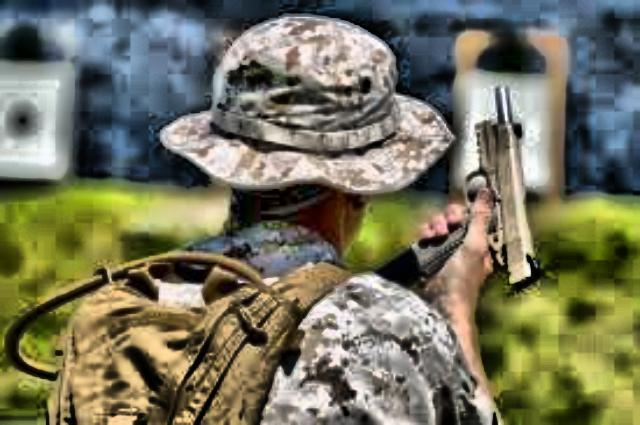pistol: (391, 84, 539, 298)
